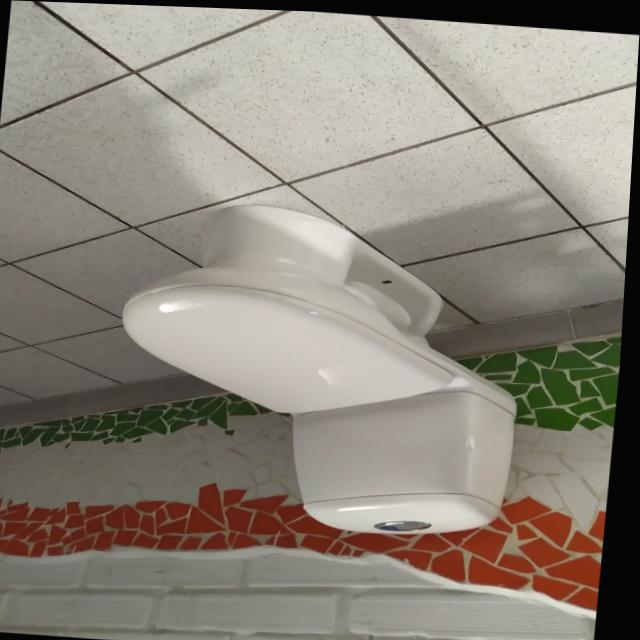toilet: (108, 193, 539, 539)
